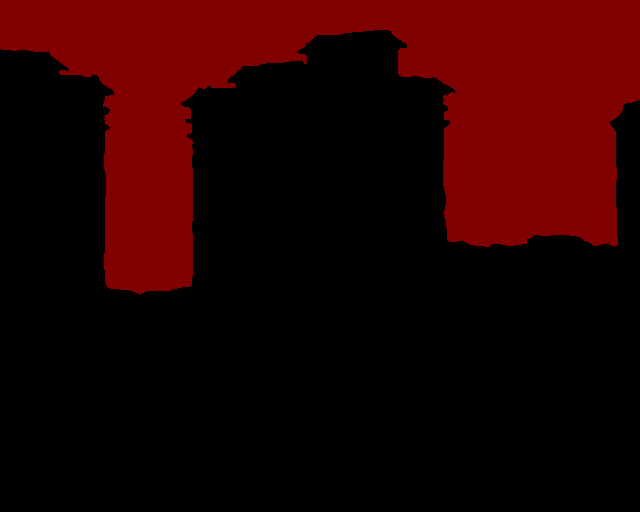Sky: (1, 1, 639, 294)
